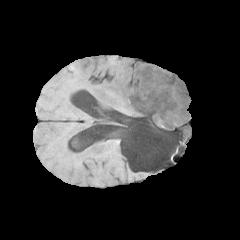glioma: (102, 63, 189, 165)
